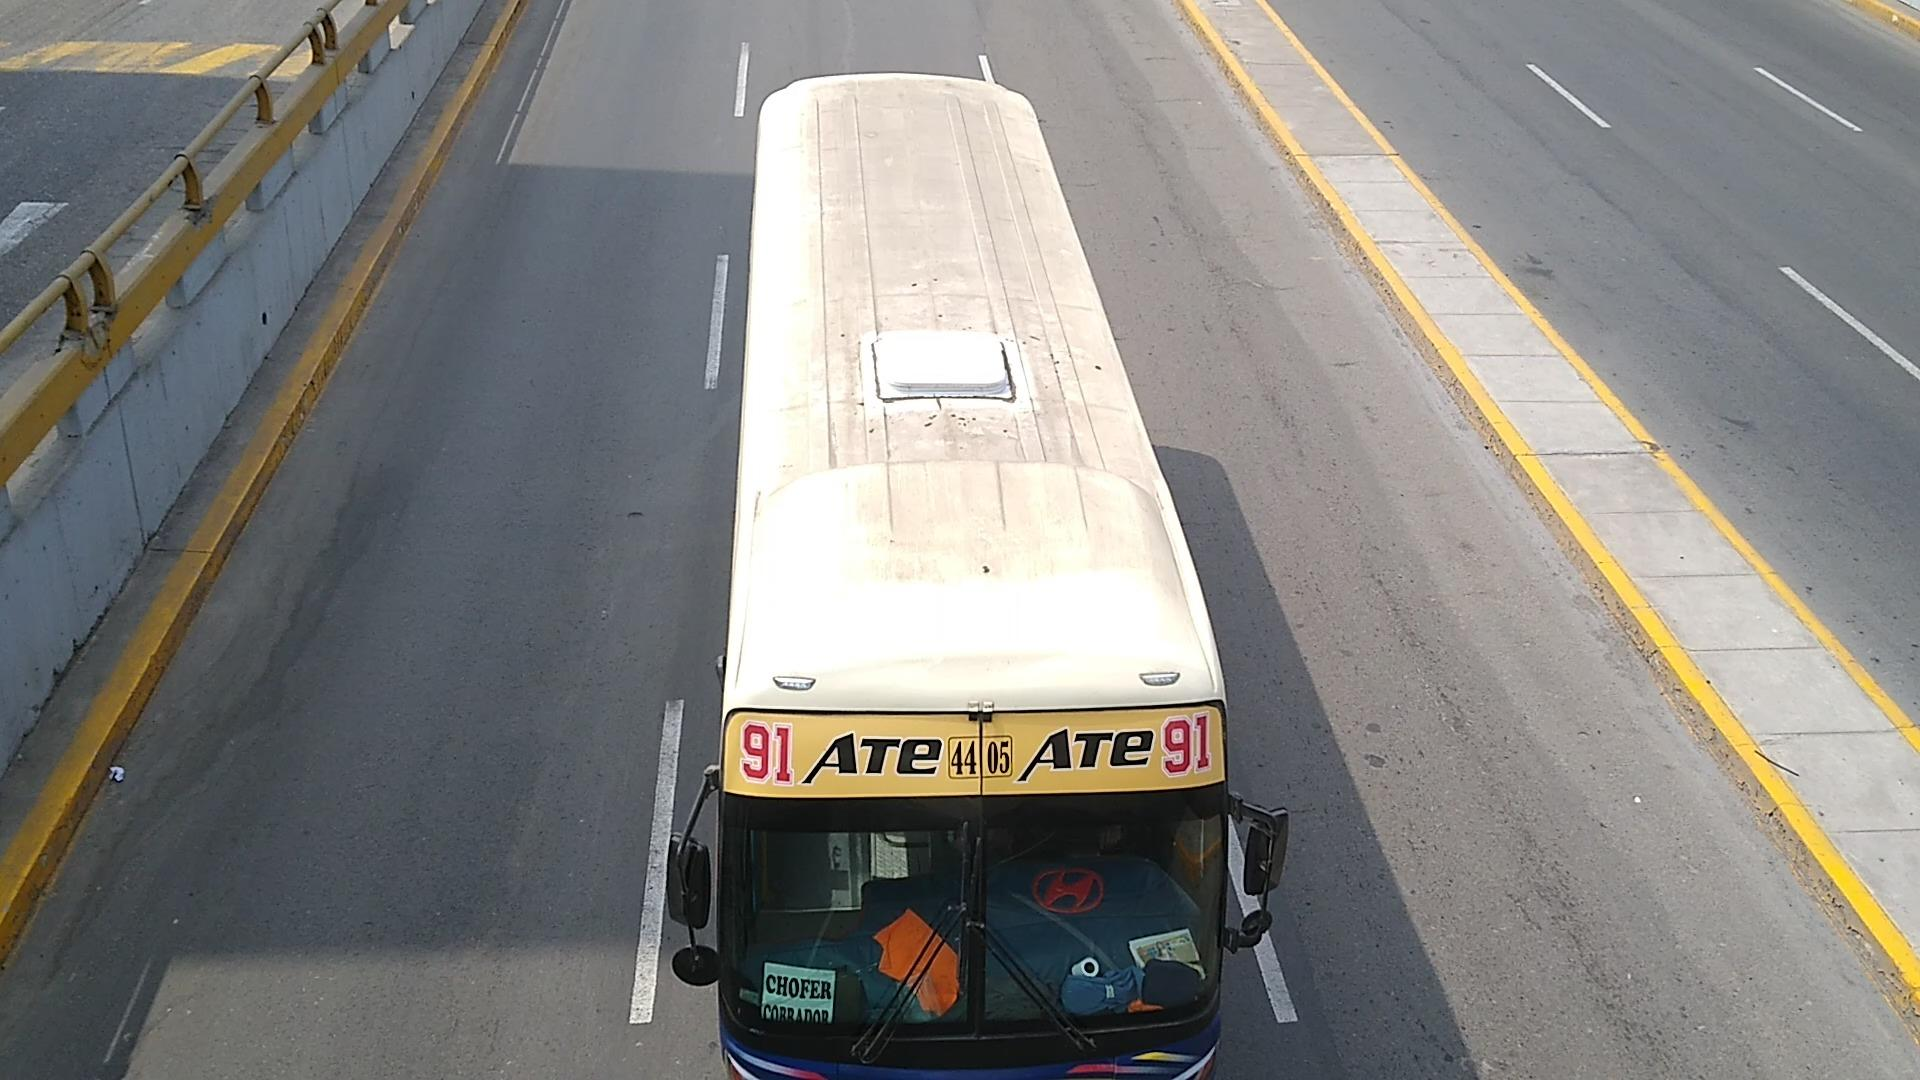bus: (675, 75, 1286, 1079)
